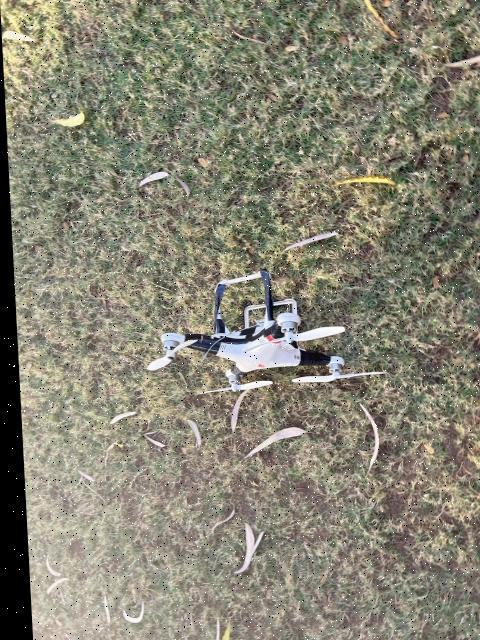drone: (130, 218, 392, 430)
